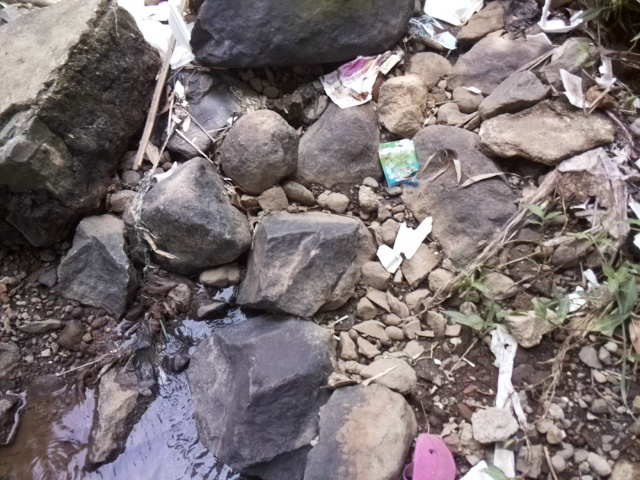Sampah_Plastik: (325, 51, 385, 112), (374, 137, 422, 188)
Sampah_Styrofoam: (379, 216, 434, 270)
